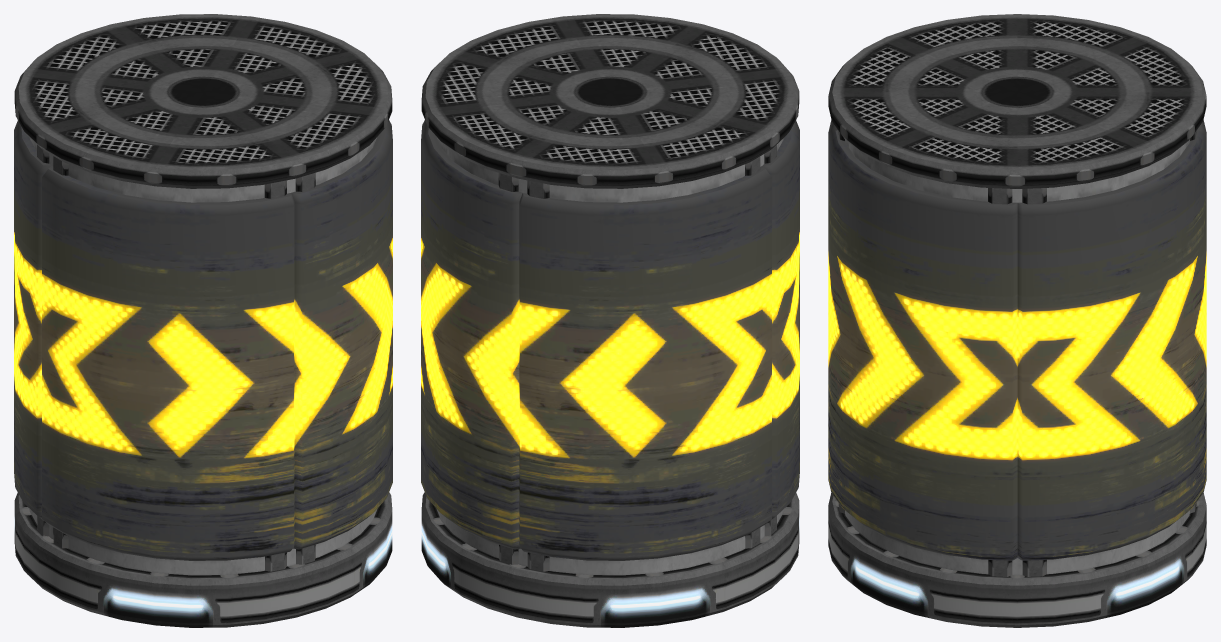
The model's file is obstacle_pillar_yellow.fbx.
3 views of the same model, side by side, from view 1: azimuth 30°, elevation 25°; view 2: azimuth 150°, elevation 25°; view 3: azimuth 270°, elevation 25° (orthographic).
Parts seen in each view (by area): view 1: cover_3, frame_3, frame_base_3; view 2: cover_3, frame_3, frame_base_3; view 3: cover_3, frame_3, frame_base_3.
Part boxes in pixels (<box>): cover_3: <box>14,120,392,560</box>; frame_3: <box>14,14,392,575</box>; frame_base_3: <box>14,492,392,627</box>; cover_3: <box>421,120,799,560</box>; frame_3: <box>421,14,799,575</box>; frame_base_3: <box>421,492,799,627</box>; cover_3: <box>828,120,1206,560</box>; frame_3: <box>828,14,1206,576</box>; frame_base_3: <box>828,493,1206,627</box>.
Bounding box in the file's own units: 480 × 640 × 480.
